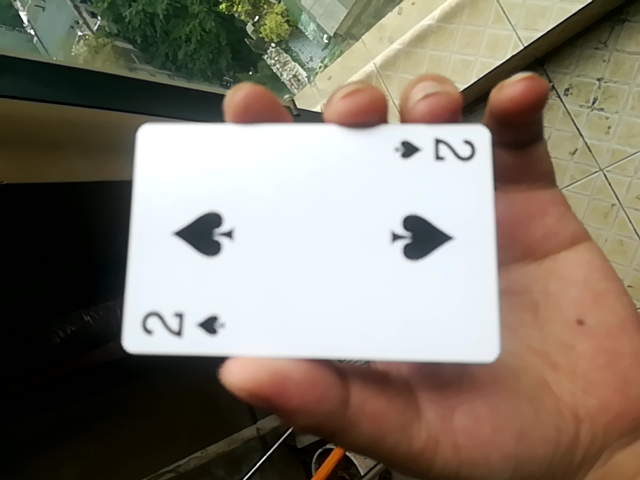ht 2: (117, 116, 497, 371)
